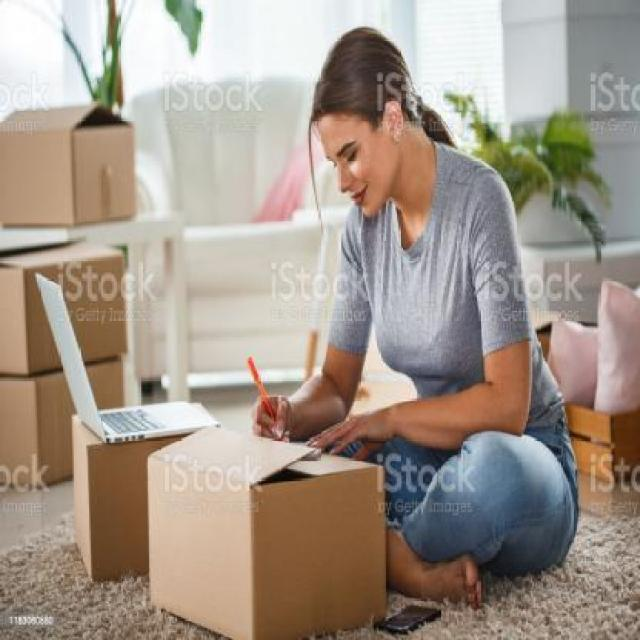box: (153, 431, 392, 640), (0, 238, 136, 374), (0, 109, 143, 228), (0, 356, 124, 486), (63, 414, 155, 576)
